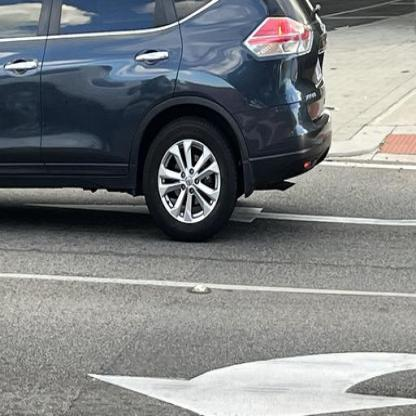Tire: (142, 114, 239, 241)
